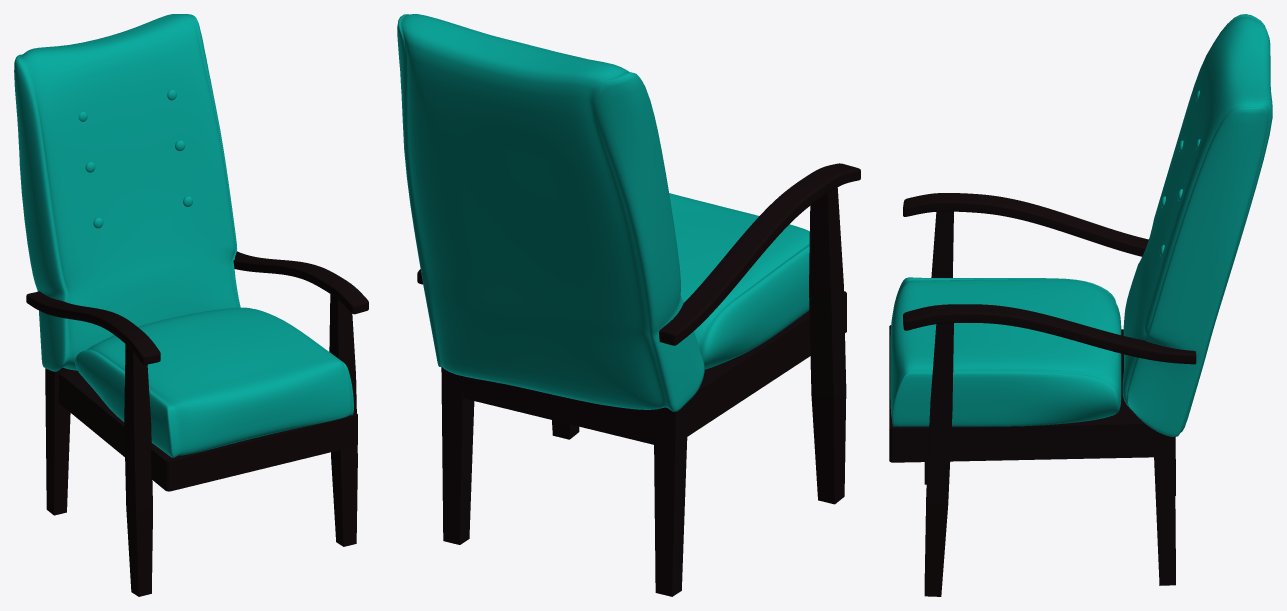
Rendered from Armchair.dae.
3 views of the same model, side by side, from view 1: azimuth 30°, elevation 25°; view 2: azimuth 150°, elevation 25°; view 3: azimuth 270°, elevation 25° (orthographic). The views are drawn at different scales.
Visible parts, largest first — view 1: ArmchairModel; view 2: ArmchairModel; view 3: ArmchairModel.
Boxes of the visible parts, x1,y1,x2,y2 form: ArmchairModel: (14,14,368,596); ArmchairModel: (397,14,860,596); ArmchairModel: (889,14,1272,596).
Bounding box in the file's own units: 0.7529 × 1.37 × 0.9884.
